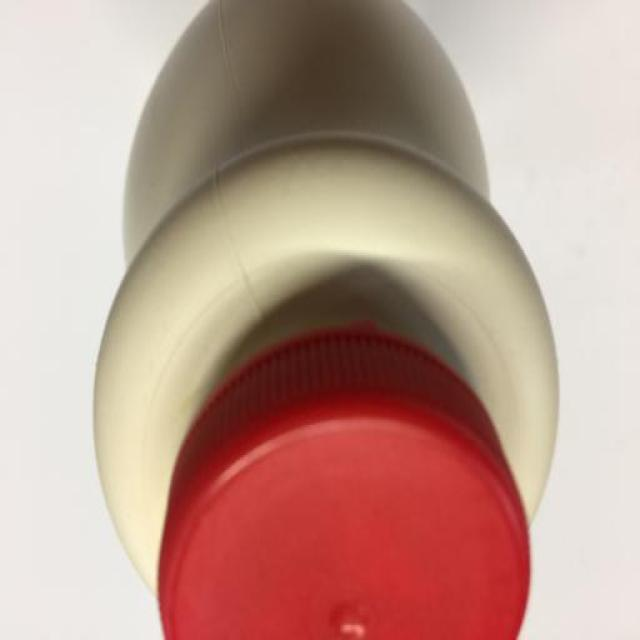Plastic: (92, 0, 558, 640)
